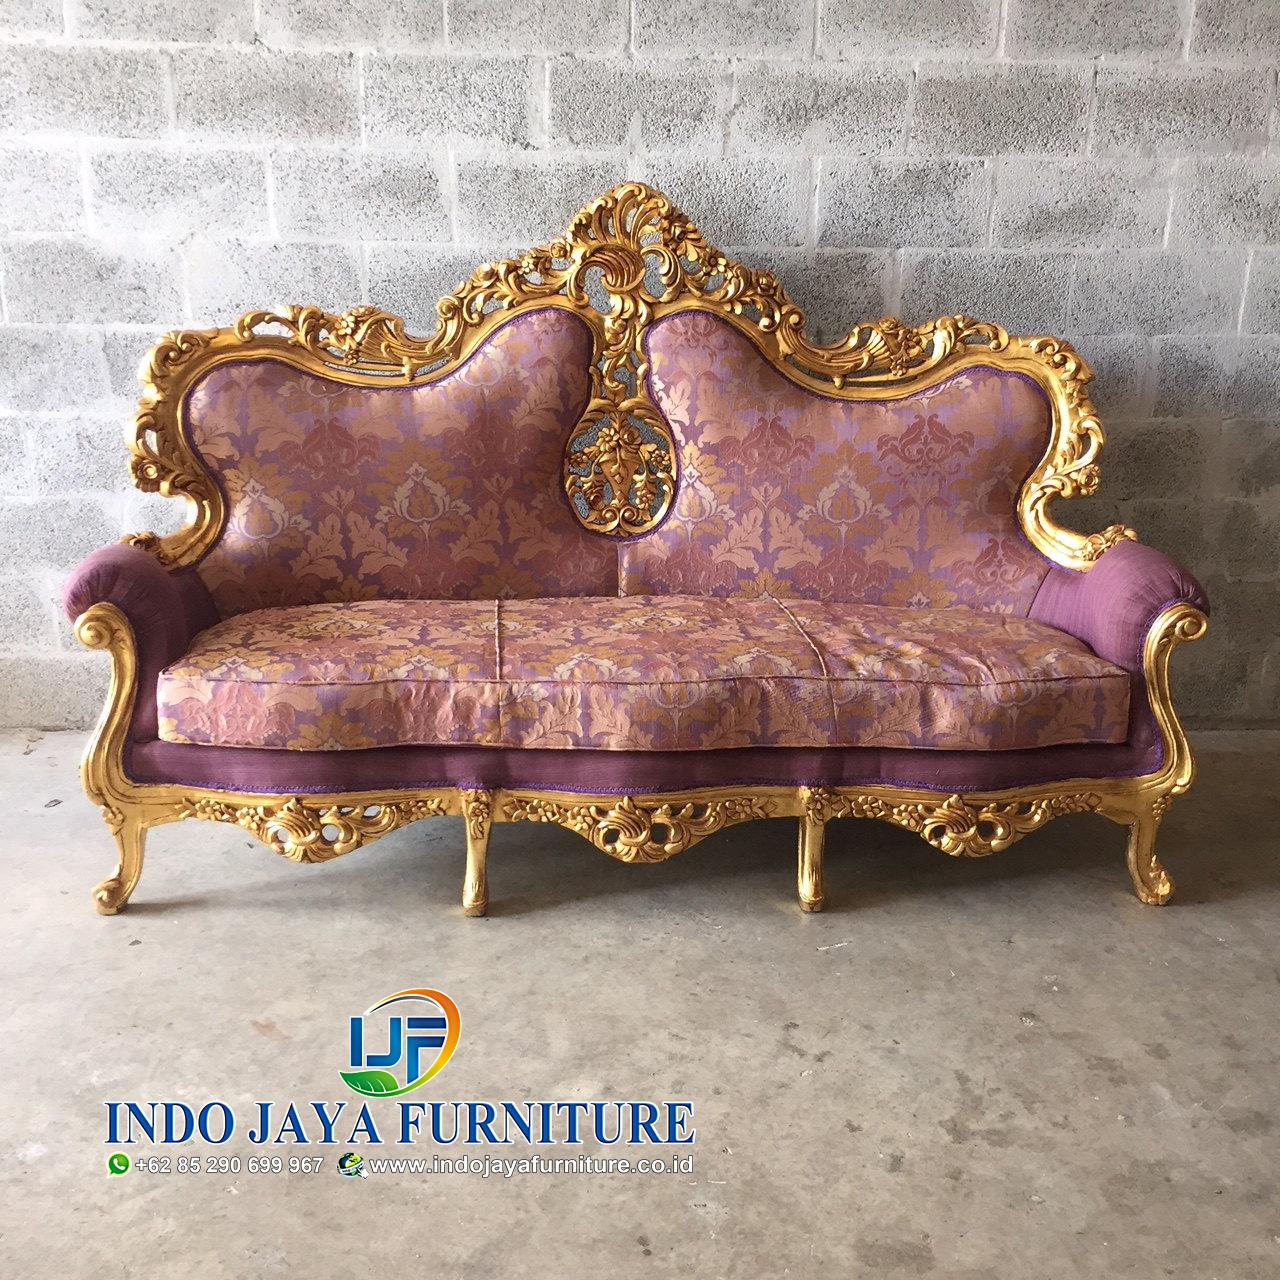Carving Chair: (120, 212, 1257, 935)
